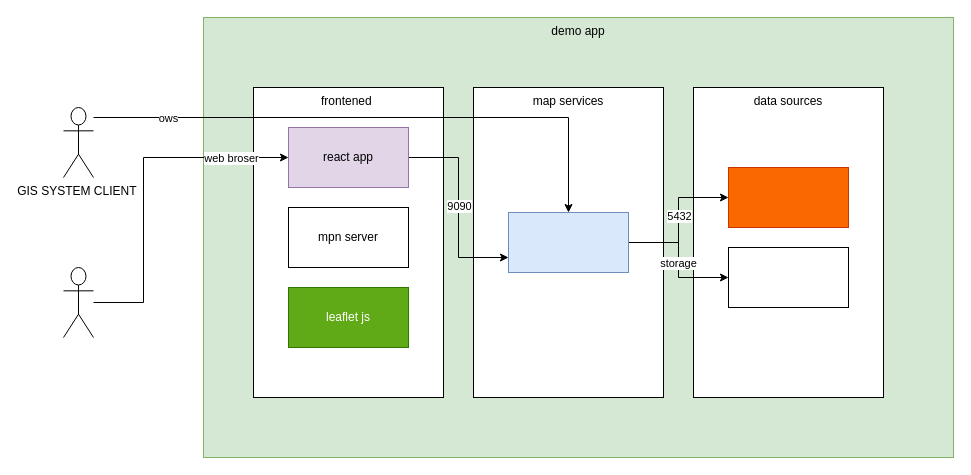
The diagram is 971 pixels wide and 475 high, and some of its shapes have lost their labels. Each missing label, with the centre of its shape:
"geoserwer" goes at (x=568, y=242).
"gpkg, fgb files" goes at (x=788, y=277).
"postgis" goes at (x=788, y=197).
"WEB APP CLIENT" goes at (x=78, y=302).
